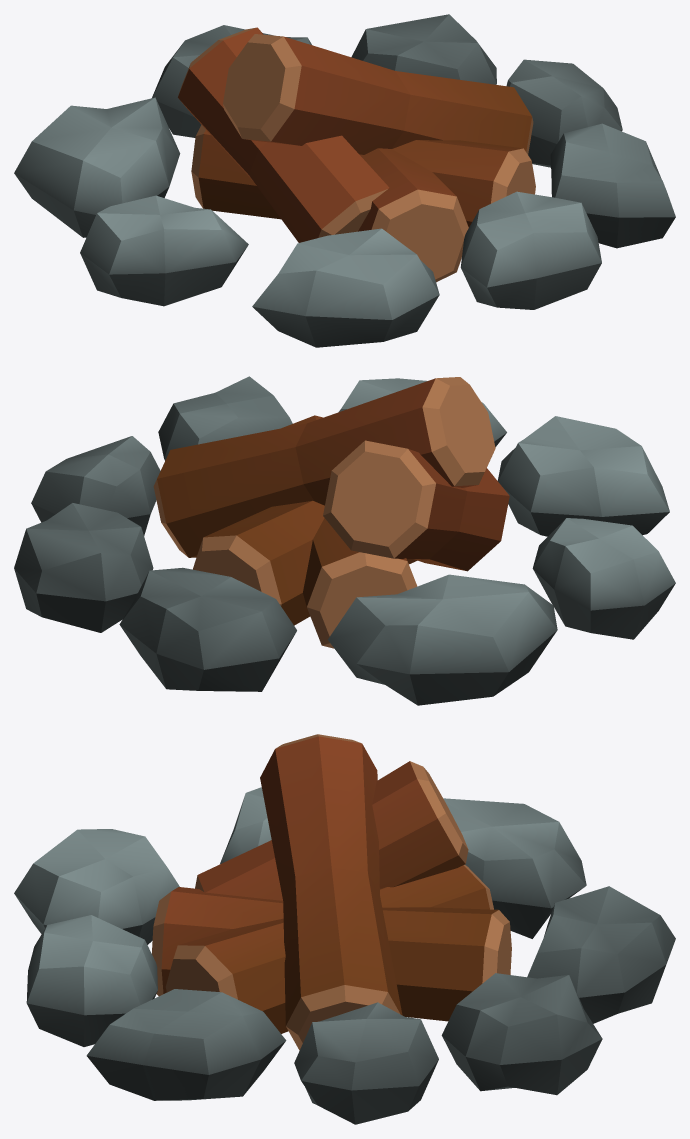
File: CampFire.fbx
3 renders of one model, top to bottom at view 1: azimuth 30°, elevation 25°; view 2: azimuth 150°, elevation 25°; view 3: azimuth 270°, elevation 25°, orthographic. The views are drawn at different scales.
Visible parts, largest first — view 1: CampFire; view 2: CampFire; view 3: CampFire.
Boxes of the visible parts, x1,y1,x2,y2 form: CampFire: (14,14,675,347); CampFire: (14,376,675,705); CampFire: (14,734,675,1124).
Size of the model in its own units: 421 by 160 by 418.
